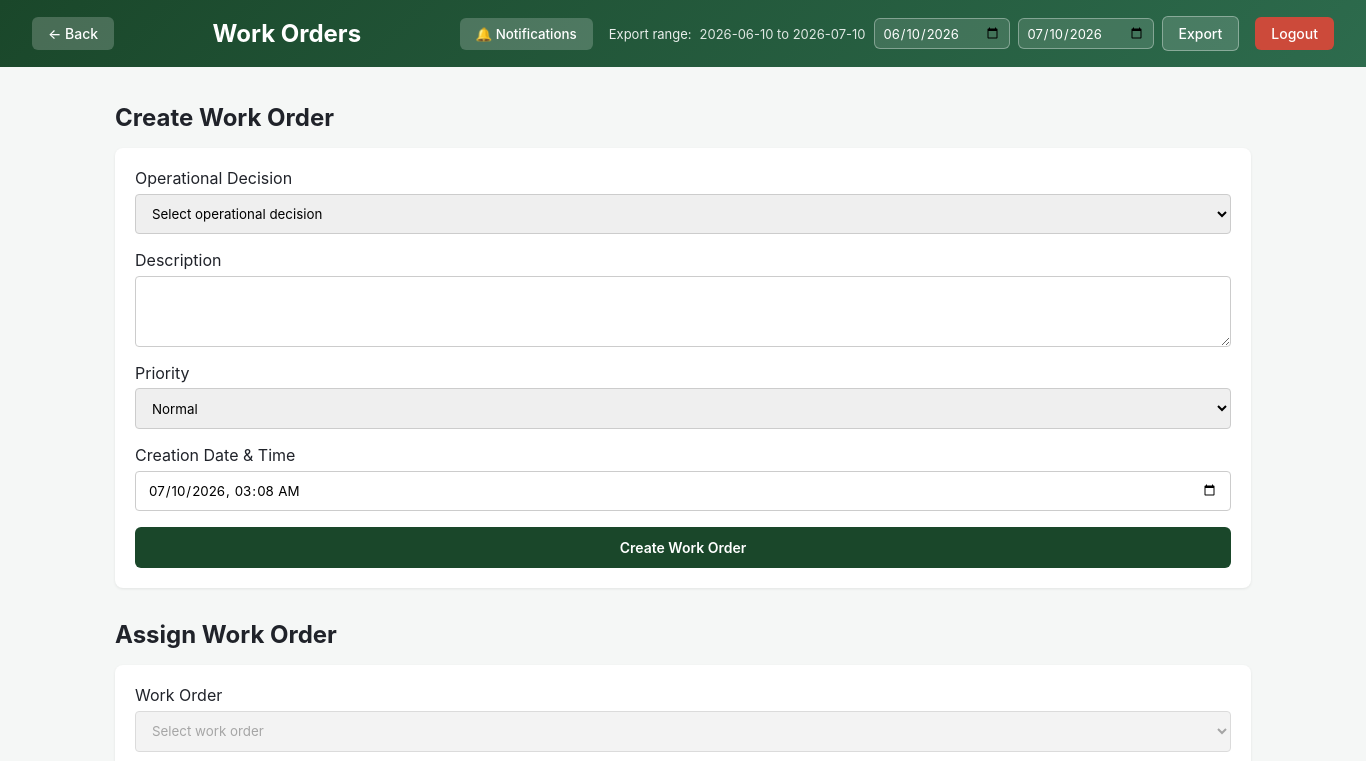
WorkOrdersPage › displays forbidden message when work order creation is rejected
Select "#1 — Central Playground (Internal Maintenance)" in the dropdown labelled "Operational Decision": (683, 214) 135,194 -> 1231,234
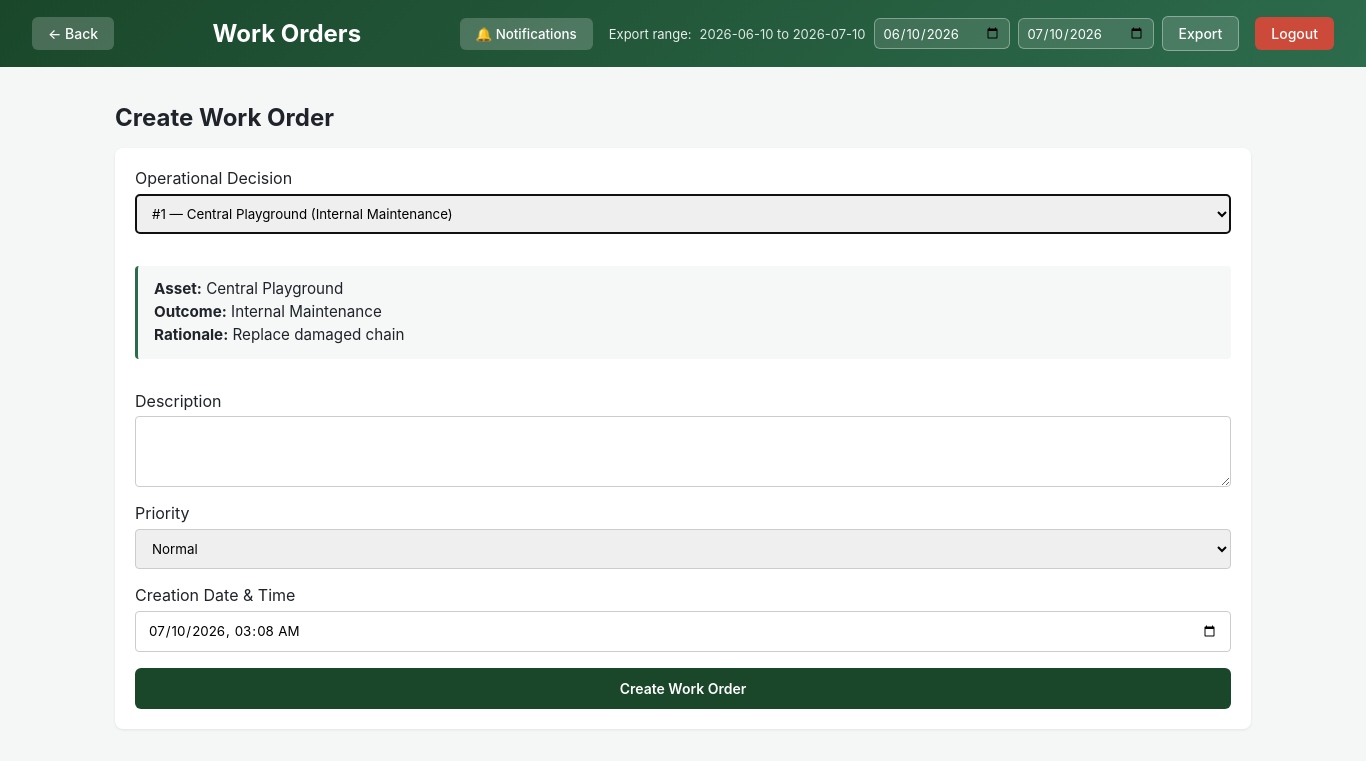
In the text box labelled "Description": (683, 452) 135,416 -> 1231,487, type "Replace chain"
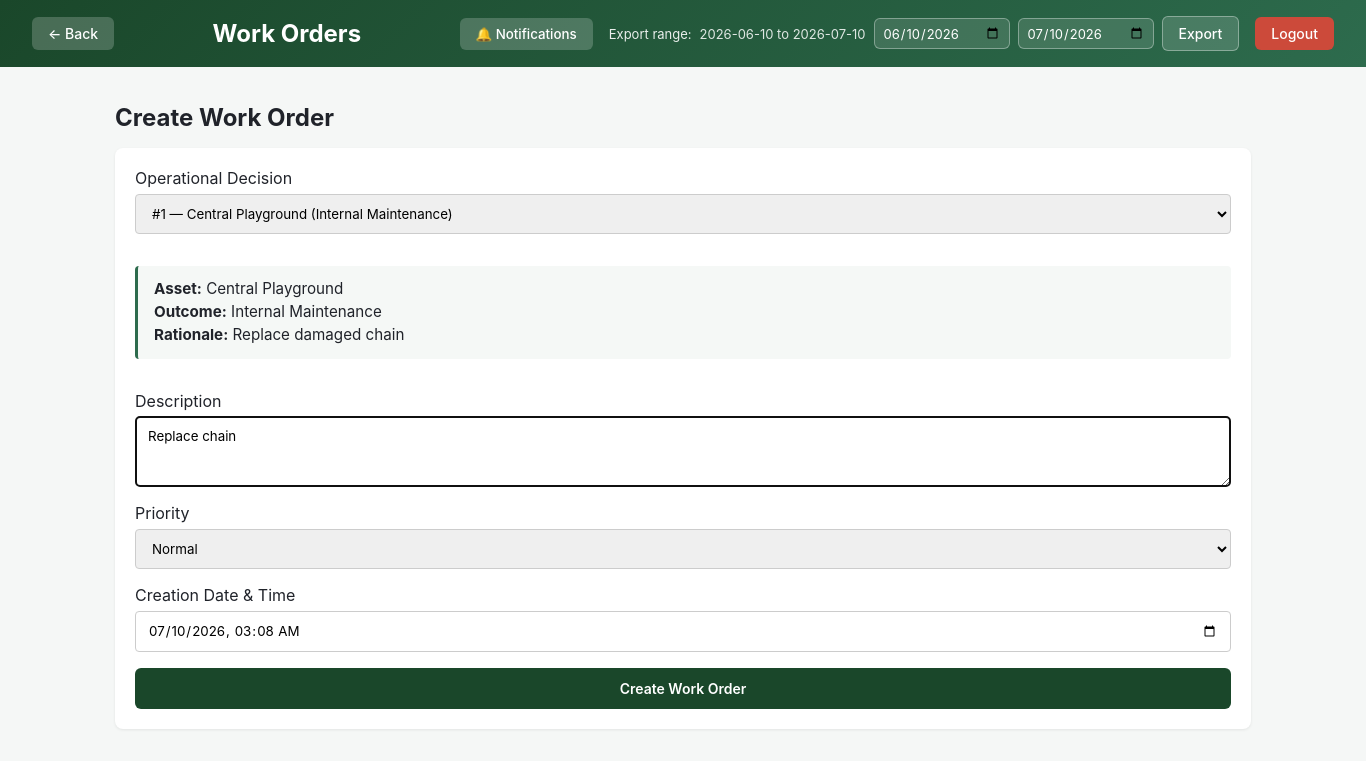
Click the button "Create Work Order": (683, 688) 135,668 -> 1231,709
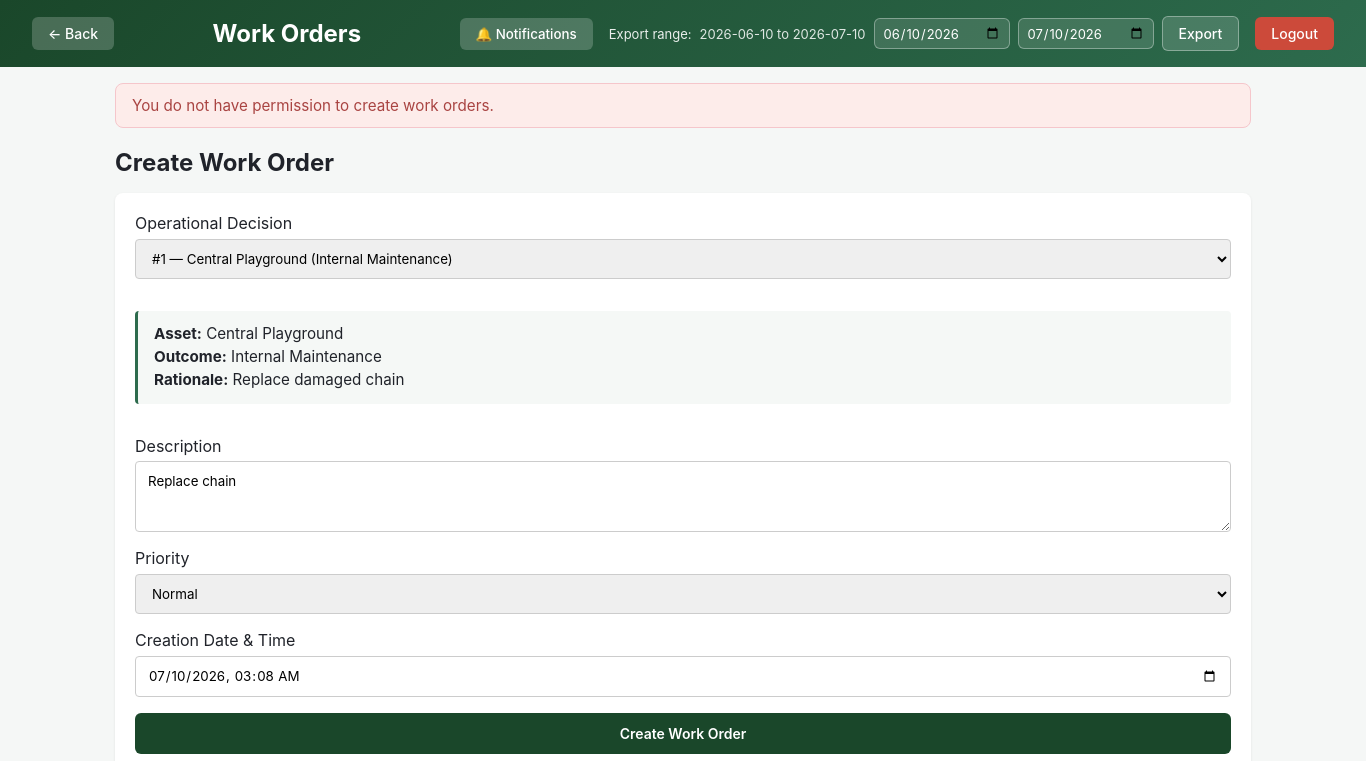
Expected: the text "You do not have permission to create work orders." is shown, 115,83 -> 1251,128
